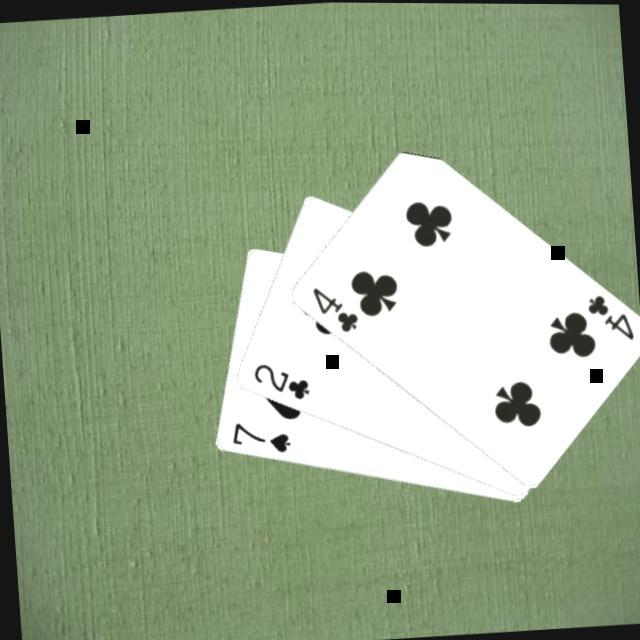2C: (247, 358, 312, 406)
4C: (581, 289, 637, 346), (307, 281, 361, 338)
7S: (226, 416, 293, 459)
